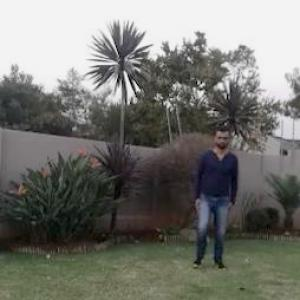follow: (193, 121, 236, 268)
